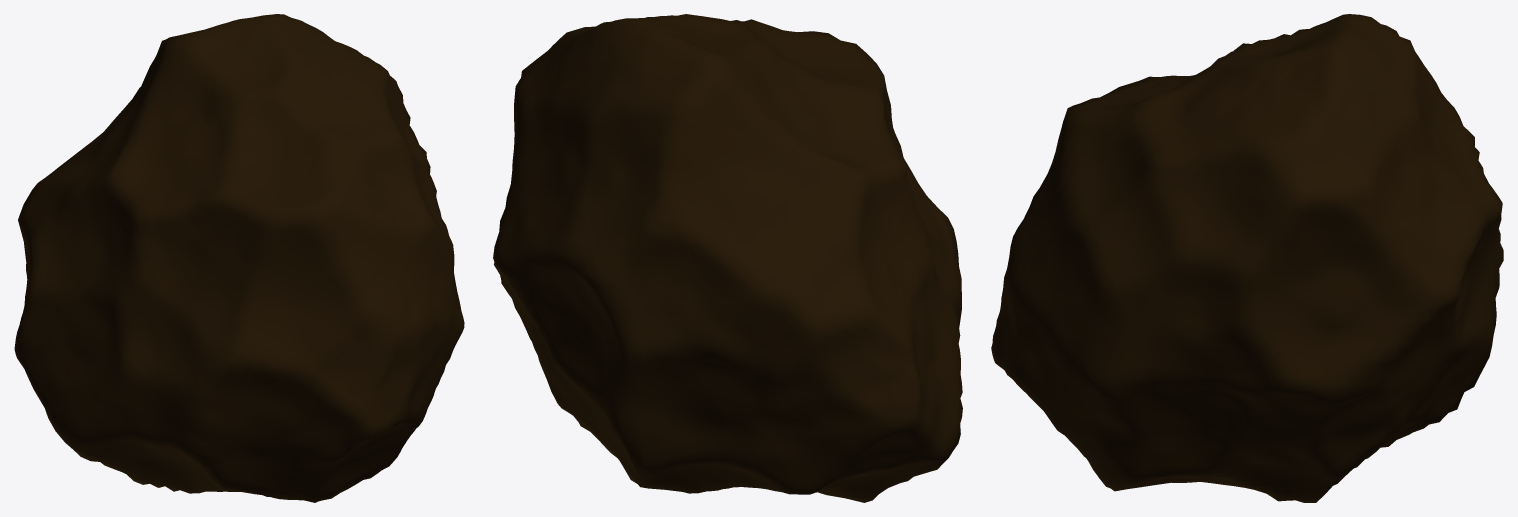
The model's file is asteroid.glb.
The picture shows the model from 3 angles, left to right: view 1: azimuth 30°, elevation 25°; view 2: azimuth 150°, elevation 25°; view 3: azimuth 270°, elevation 25°; orthographic projection. The views are drawn at different scales.
Parts seen in each view (by area): view 1: rock; view 2: rock; view 3: rock.
Boxes of the visible parts, bbox=[...] form: rock: bbox=[14, 14, 464, 502]; rock: bbox=[493, 14, 962, 502]; rock: bbox=[991, 14, 1503, 502].
Size of the model in its own units: 1.24 by 1.31 by 1.32.
